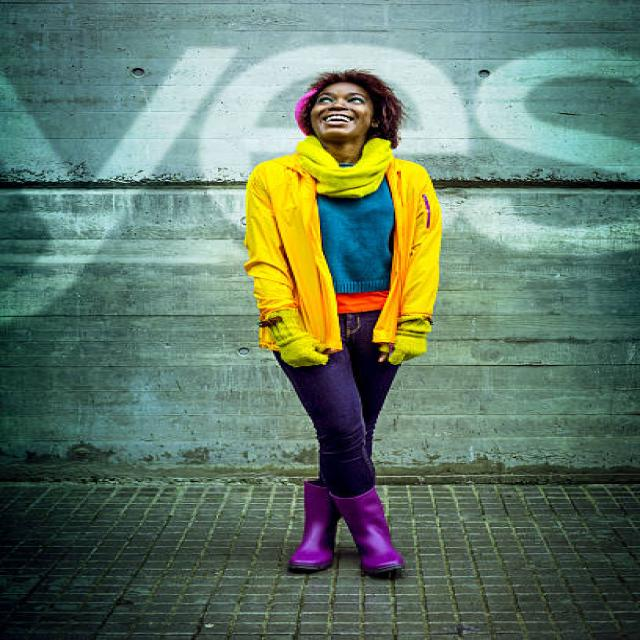Real human 2: (218, 53, 508, 600)
